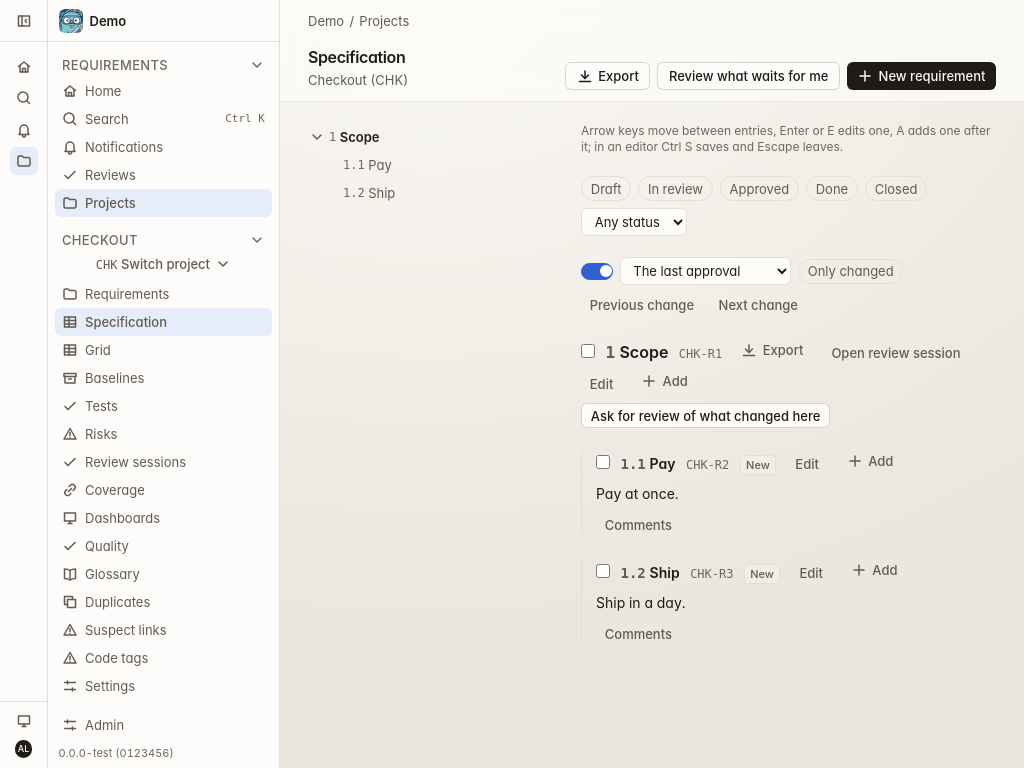
Scenario: reviews in the document › says how a section's review went though its button went away while it was asked
Click the button "Ask for review of what changed here" at (706, 416), box x1=581 y1=403 x2=830 y2=428
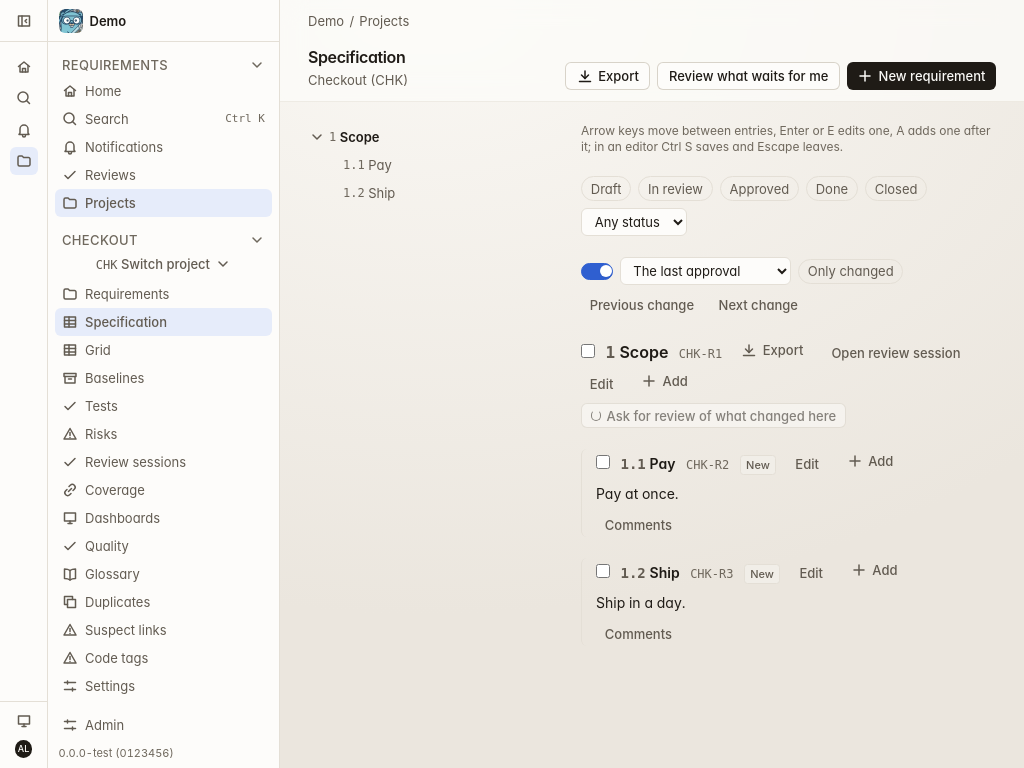
Click the switch named "Show changes" at (597, 271), box x1=581 y1=262 x2=612 y2=280
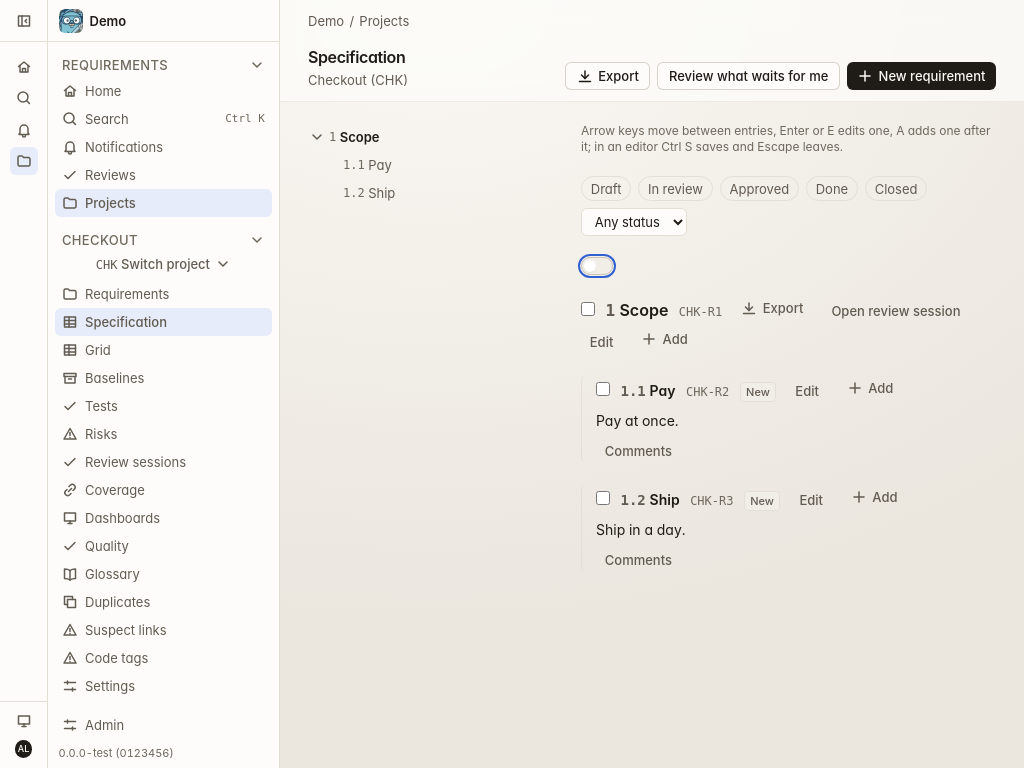
Expected: the button "Ask for review of what changed here" is gone
